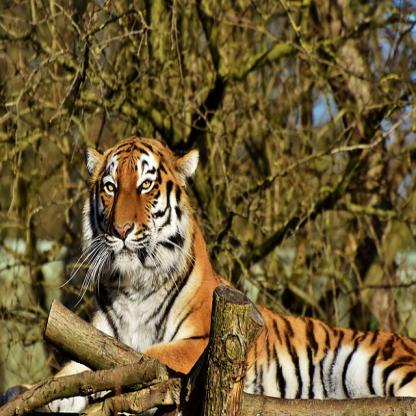cat: (82, 138, 416, 396)
